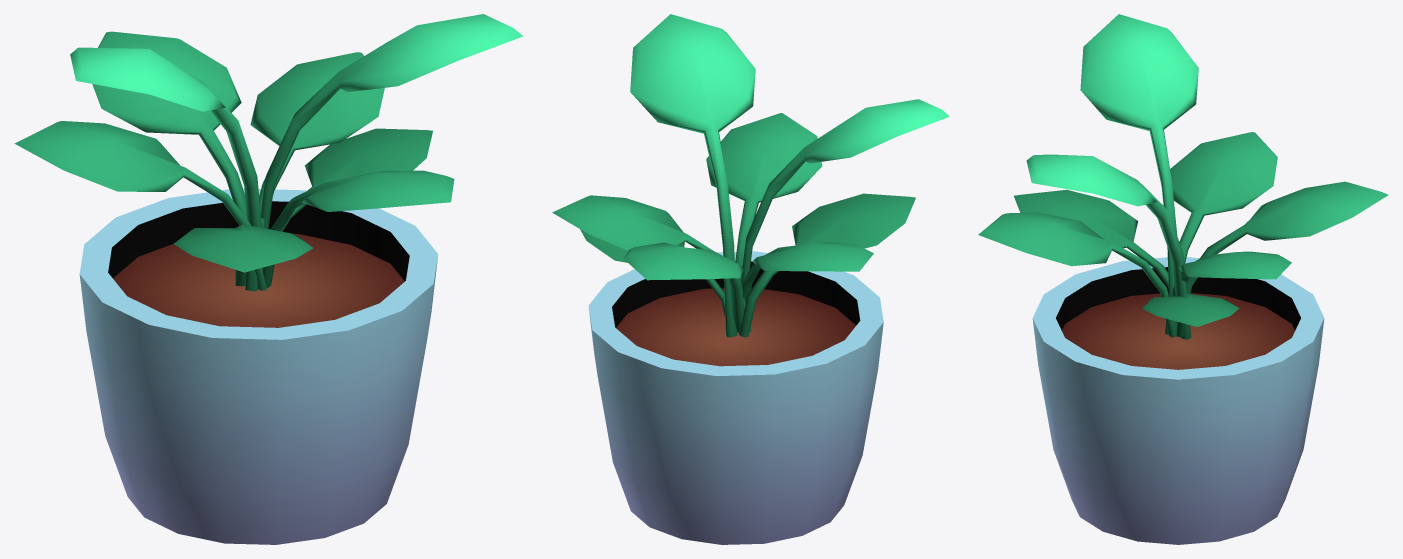
File: Plant 2.fbx
3 views of the same model, side by side, from view 1: azimuth 30°, elevation 25°; view 2: azimuth 150°, elevation 25°; view 3: azimuth 270°, elevation 25° (orthographic). The views are drawn at different scales.
Visible parts, largest first — view 1: pot 2, Plant 2; view 2: pot 2, Plant 2; view 3: pot 2, Plant 2.
Part boxes in pixels (x1,y1,x2,y2): pot 2: (79, 188, 438, 544); Plant 2: (14, 14, 523, 291); pot 2: (588, 251, 883, 544); Plant 2: (552, 14, 949, 337); pot 2: (1032, 257, 1324, 544); Plant 2: (978, 14, 1388, 339).
Size of the model in its own units: 169 by 198 by 183.
